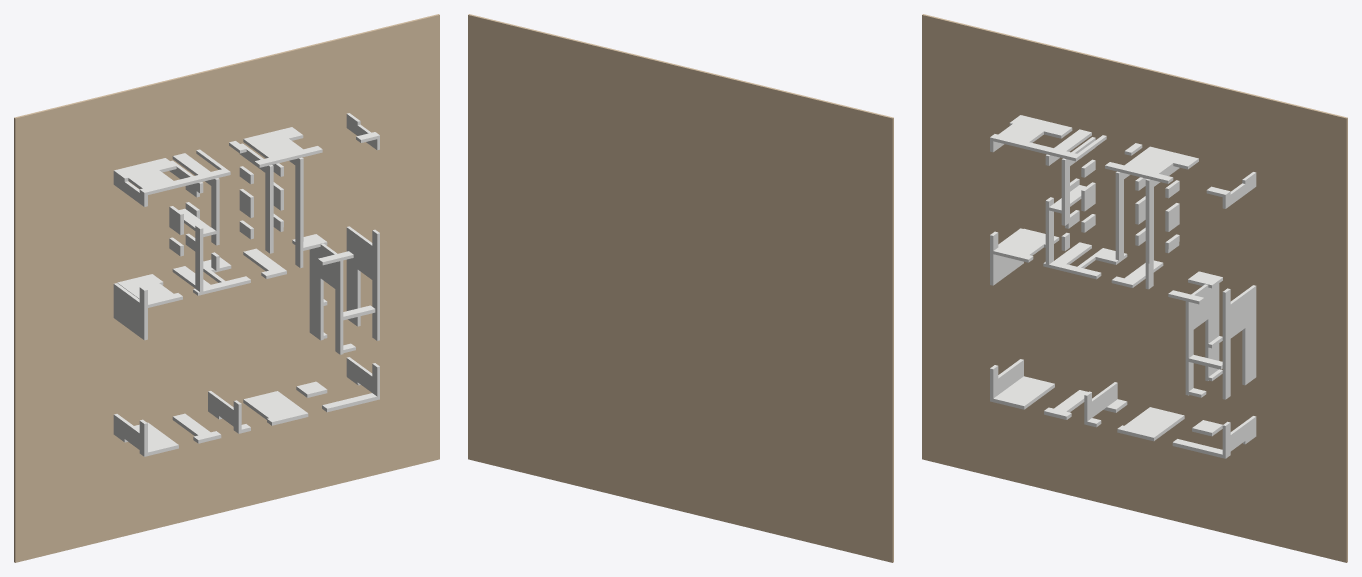
File: img14_kimi.glb
3 renders of one model, left to right at view 1: azimuth 30°, elevation 25°; view 2: azimuth 150°, elevation 25°; view 3: azimuth 330°, elevation 25°, orthographic.
Parts seen in each view (by area): view 1: floor, wall_7, wall_0, wall_27, wall_1, wall_24, wall_4, wall_13, wall_25, wall_20, wall_16, wall_15 (+9 smaller); view 2: floor; view 3: floor, wall_7, wall_0, wall_27, wall_1, wall_25, wall_24, wall_13, wall_22, wall_16, wall_9, wall_15 (+8 smaller).
Boxes of the visible parts, x1,y1,x2,y2 form: floor: (14, 14, 439, 562); wall_7: (346, 226, 379, 340); wall_0: (113, 149, 230, 195); wall_27: (309, 243, 343, 354); wall_1: (229, 127, 322, 167); wall_24: (239, 143, 273, 253); wall_4: (113, 283, 147, 340); wall_13: (243, 391, 308, 425); wall_25: (272, 157, 303, 242); wall_20: (169, 206, 203, 292); wall_16: (172, 257, 250, 295); wall_15: (117, 274, 182, 307); floor: (468, 14, 893, 562); floor: (922, 14, 1347, 562); wall_7: (1222, 285, 1256, 399); wall_0: (990, 115, 1106, 161); wall_27: (1185, 283, 1219, 395); wall_1: (1105, 143, 1198, 183); wall_25: (1145, 166, 1179, 263); wall_24: (1115, 171, 1146, 260); wall_13: (1117, 407, 1184, 441); wall_22: (1061, 137, 1095, 225); wall_16: (1043, 242, 1127, 279); wall_9: (990, 376, 1054, 409); wall_15: (993, 228, 1059, 262).
Size of the model in its own units: 20 by 20 by 2.6.
